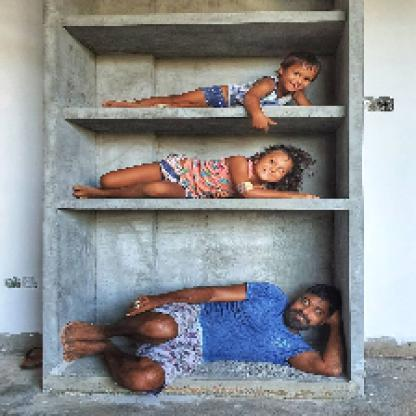child: (102, 53, 321, 133)
